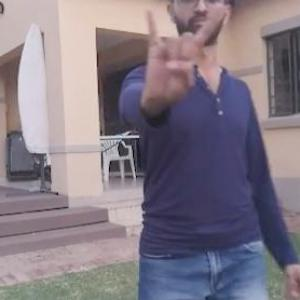takeoff-hand: (142, 2, 224, 108)
